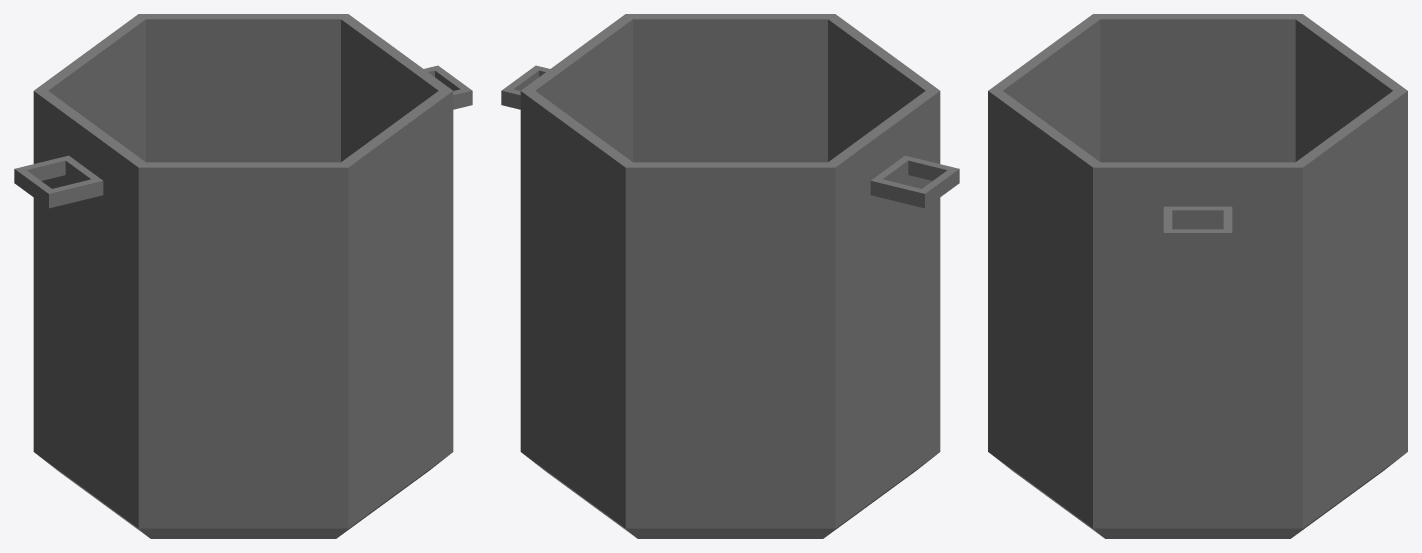
File: Cauldron.fbx
3 views of the same model, side by side, from view 1: azimuth 30°, elevation 25°; view 2: azimuth 150°, elevation 25°; view 3: azimuth 270°, elevation 25° (orthographic).
Visible parts, largest first — view 1: Cauldron; view 2: Cauldron; view 3: Cauldron.
Part boxes in pixels (<box>): Cauldron: <box>14,14,472,538</box>; Cauldron: <box>501,14,959,538</box>; Cauldron: <box>988,14,1407,538</box>.
Size of the model in its own units: 34.97 by 30 by 30.
1 material, 1 textured.
